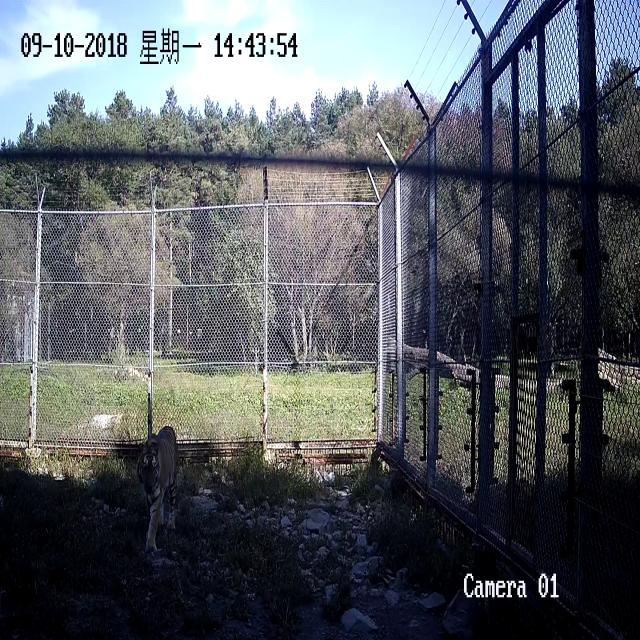Tiger: (125, 423, 201, 582)
